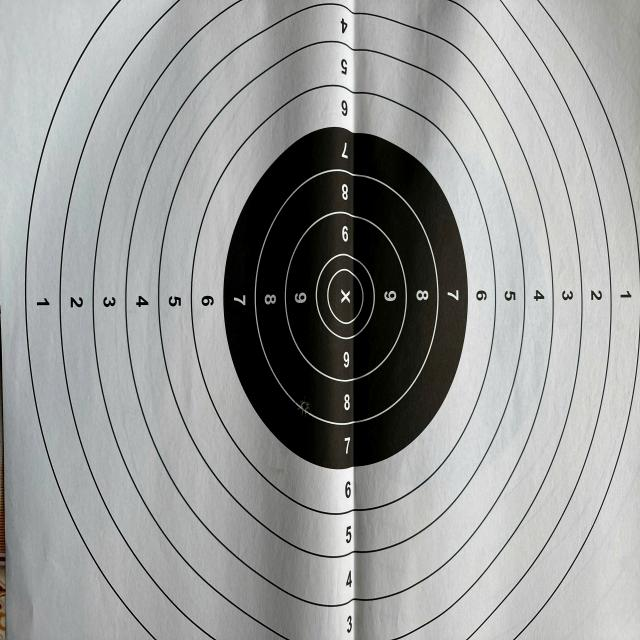bullet: (300, 400, 308, 411)
